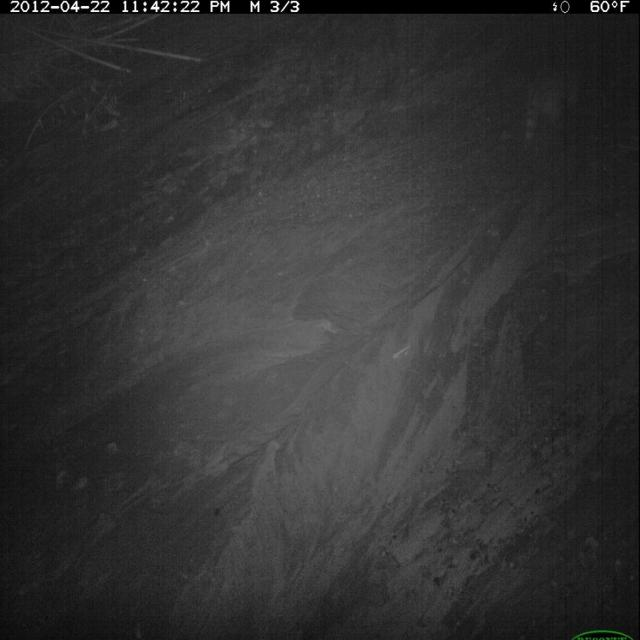raccoon: (519, 43, 586, 153)
